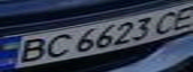2: (112, 19, 139, 47)
3: (130, 13, 160, 42)
6: (93, 22, 121, 51), (75, 25, 100, 54)
B: (6, 35, 54, 65)
C: (145, 8, 190, 35), (36, 33, 75, 61)
E: (163, 3, 193, 33)
